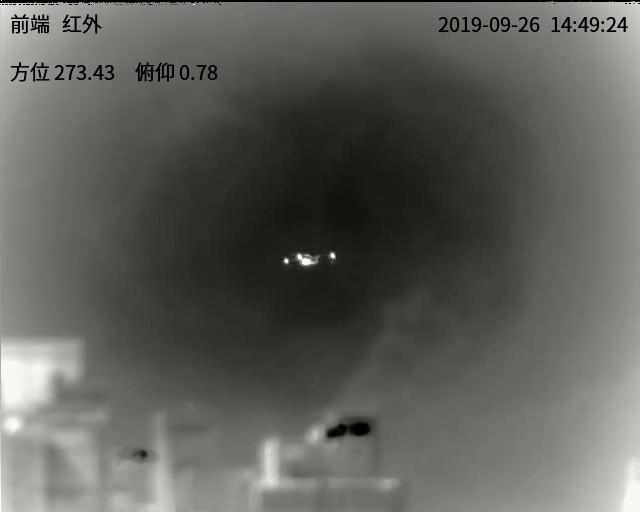DRONE: (282, 251, 336, 268)
